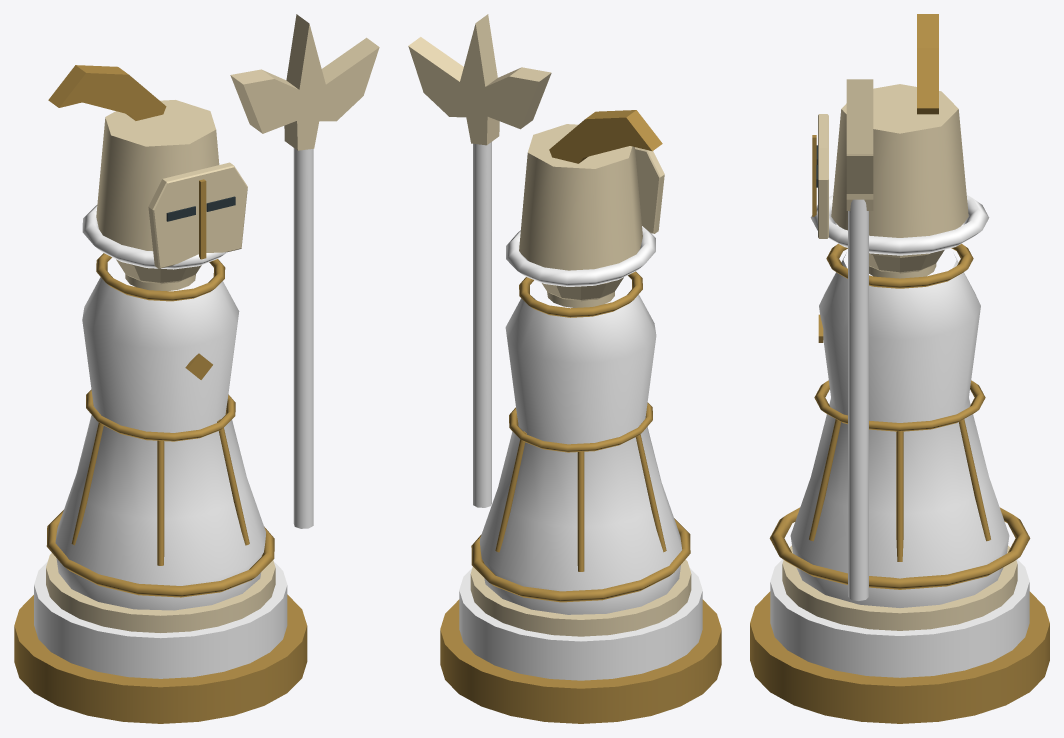
Rendered from condottiere.glb.
The picture shows the model from 3 angles, left to right: view 1: azimuth 30°, elevation 25°; view 2: azimuth 150°, elevation 25°; view 3: azimuth 270°, elevation 25°; orthographic projection. The views are drawn at different scales.
Parts seen in each view (by area): view 1: Turned enamel robe, Trim plinth, Enamel base, Longswordsman enclosed steel helm, Broad poleaxe head, Poleaxe haft, Longswordsman steel visor, Ivory base bead, Helmet plume, Trim hem, Longswordsman low owner helm edge, Trim collar bead (+6 smaller); view 2: Turned enamel robe, Trim plinth, Longswordsman enclosed steel helm, Enamel base, Broad poleaxe head, Poleaxe haft, Ivory base bead, Helmet plume, Trim hem, Longswordsman low owner helm edge, Longswordsman steel visor, Trim collar bead (+6 smaller); view 3: Turned enamel robe, Trim plinth, Longswordsman enclosed steel helm, Enamel base, Poleaxe haft, Ivory base bead, Trim hem, Broad poleaxe head, Longswordsman low owner helm edge, Helmet plume, Trim waist band, Trim collar bead (+5 smaller).
Part boxes in pixels (box(x1,y1,x2,y2)): Turned enamel robe: box(55, 277, 265, 610); Trim plinth: box(14, 594, 307, 723); Enamel base: box(34, 562, 287, 678); Longswordsman enclosed steel helm: box(96, 100, 219, 251); Broad poleaxe head: box(230, 14, 379, 150); Poleaxe haft: box(293, 148, 313, 528); Longswordsman steel visor: box(148, 162, 247, 268); Ivory base bead: box(46, 553, 275, 632); Helmet plume: box(48, 65, 166, 120); Trim hem: box(46, 510, 274, 597); Longswordsman low owner helm edge: box(82, 205, 226, 269); Trim collar bead: box(96, 253, 225, 301); Turned enamel robe: box(479, 294, 682, 614); Trim plinth: box(440, 599, 721, 723); Longswordsman enclosed steel helm: box(519, 124, 642, 270); Enamel base: box(459, 567, 702, 680); Broad poleaxe head: box(408, 14, 551, 145); Poleaxe haft: box(473, 142, 491, 507); Ivory base bead: box(470, 559, 691, 636); Helmet plume: box(549, 110, 662, 163); Trim hem: box(471, 518, 690, 602); Longswordsman low owner helm edge: box(506, 226, 655, 286); Longswordsman steel visor: box(635, 147, 664, 233); Trim collar bead: box(519, 271, 642, 317); Turned enamel robe: box(790, 254, 1009, 607); Trim plinth: box(750, 591, 1049, 723); Longswordsman enclosed steel helm: box(831, 84, 968, 237); Enamel base: box(770, 559, 1029, 677); Poleaxe haft: box(848, 199, 868, 600); Ivory base bead: box(782, 545, 1017, 630); Trim hem: box(769, 507, 1030, 589); Broad poleaxe head: box(846, 79, 873, 210); Longswordsman low owner helm edge: box(810, 195, 989, 255); Helmet plume: box(917, 14, 938, 114); Trim waist band: box(814, 380, 985, 431); Trim collar bead: box(826, 243, 973, 288).
Bounding box in the file's own units: 0.5908 × 1.11 × 0.4689.
